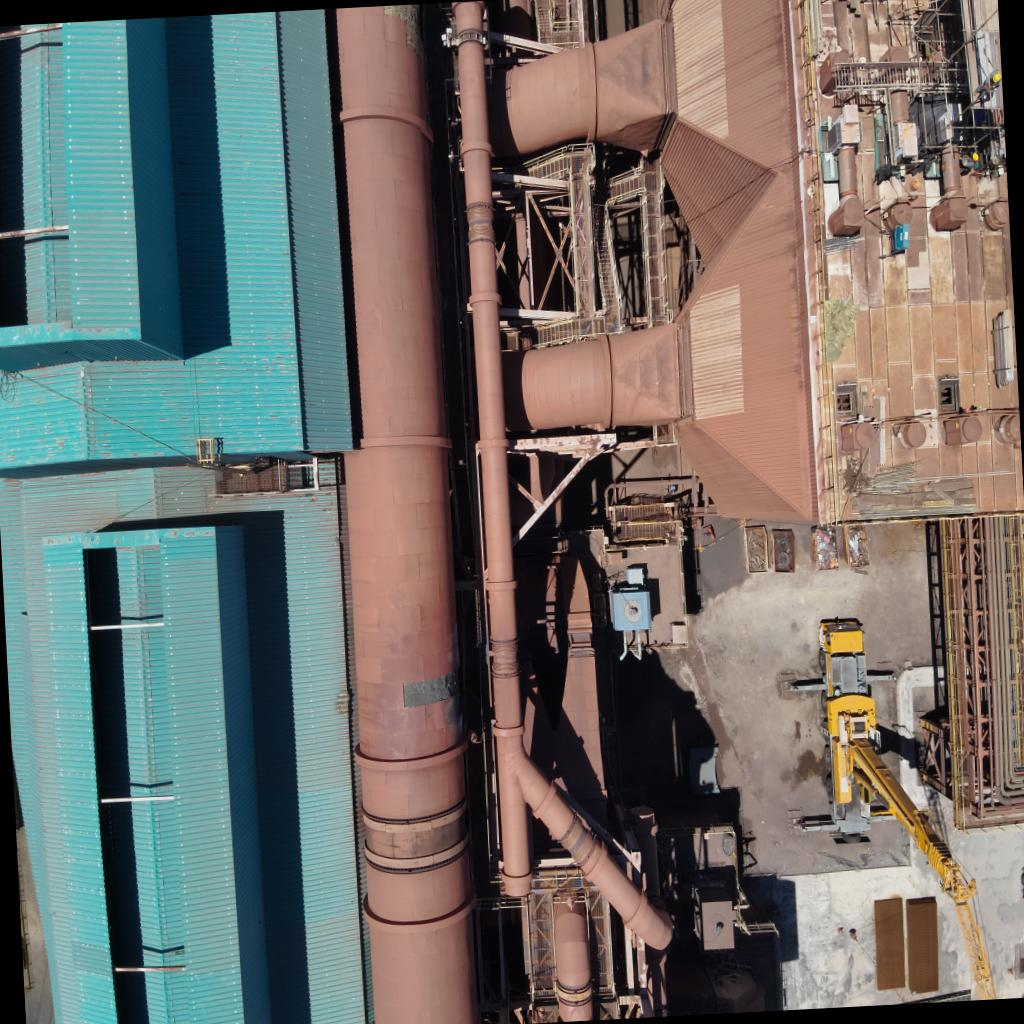Failures: (381, 4, 428, 59), (402, 668, 464, 709)
